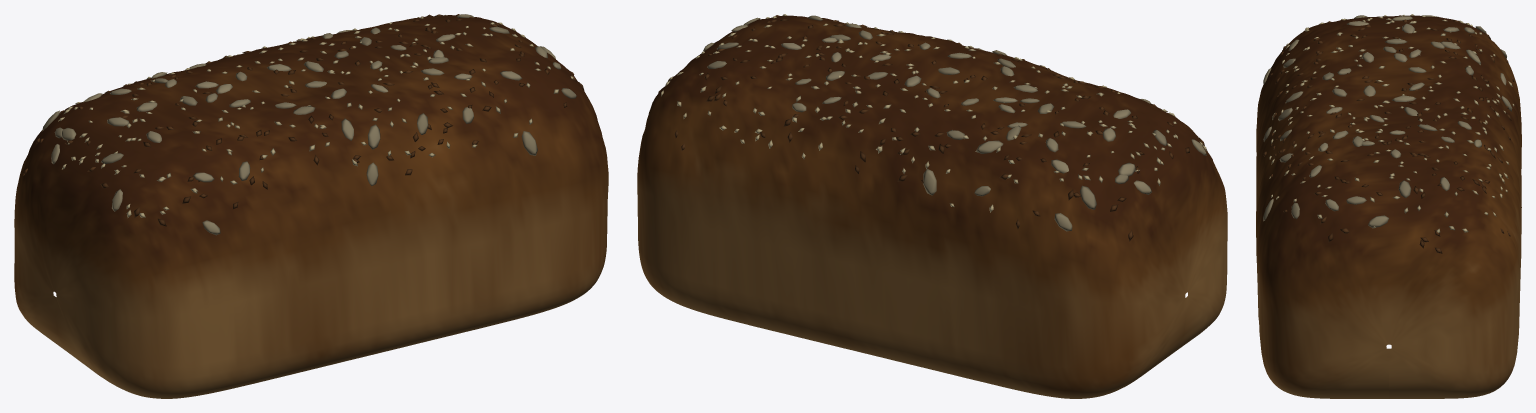
Rendered from voll-gut-750g.glb.
3 views of the same model, side by side, from view 1: azimuth 30°, elevation 25°; view 2: azimuth 150°, elevation 25°; view 3: azimuth 270°, elevation 25° (orthographic). The views are drawn at different scales.
Parts seen in each view (by area): view 1: voll-gut-750g; view 2: voll-gut-750g; view 3: voll-gut-750g.
Part boxes in pixels (x1,y1,x2,y2): voll-gut-750g: (14, 14, 608, 398); voll-gut-750g: (637, 14, 1227, 398); voll-gut-750g: (1256, 14, 1521, 398).
Bounding box in the file's own units: 0.2289 × 0.1039 × 0.1145.
